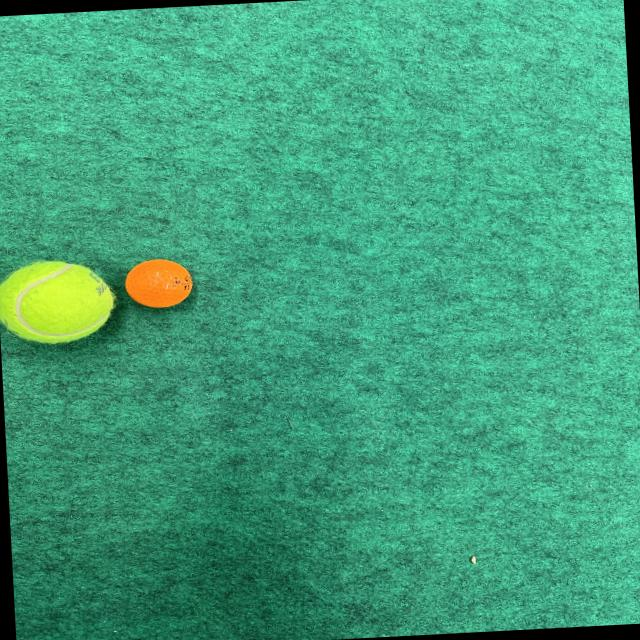ball: (122, 257, 196, 312)
